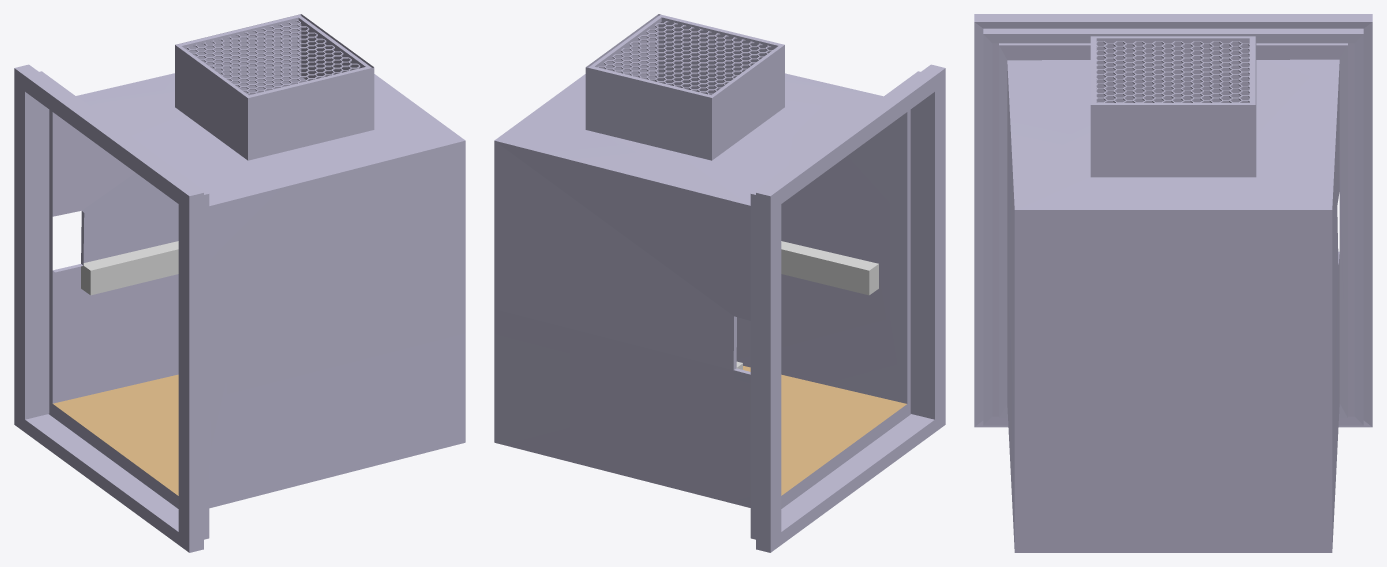
Rendered from Elevator.fbx.
3 renders of one model, left to right at view 1: azimuth 30°, elevation 25°; view 2: azimuth 150°, elevation 25°; view 3: azimuth 270°, elevation 25°, orthographic. The views are drawn at different scales.
Parts seen in each view (by area): view 1: Elevator, MetalGridTile; view 2: Elevator, MetalGridTile; view 3: Elevator, MetalGridTile.
Part boxes in pixels (x1=…): Elevator: x1=14, y1=14, x2=465, y2=552; MetalGridTile: x1=175, y1=14, x2=371, y2=102; Elevator: x1=494, y1=14, x2=945, y2=552; MetalGridTile: x1=588, y1=14, x2=784, y2=101; Elevator: x1=974, y1=14, x2=1372, y2=552; MetalGridTile: x1=1090, y1=36, x2=1255, y2=106.
Bounding box in the file's own units: 300 × 381 × 309.
